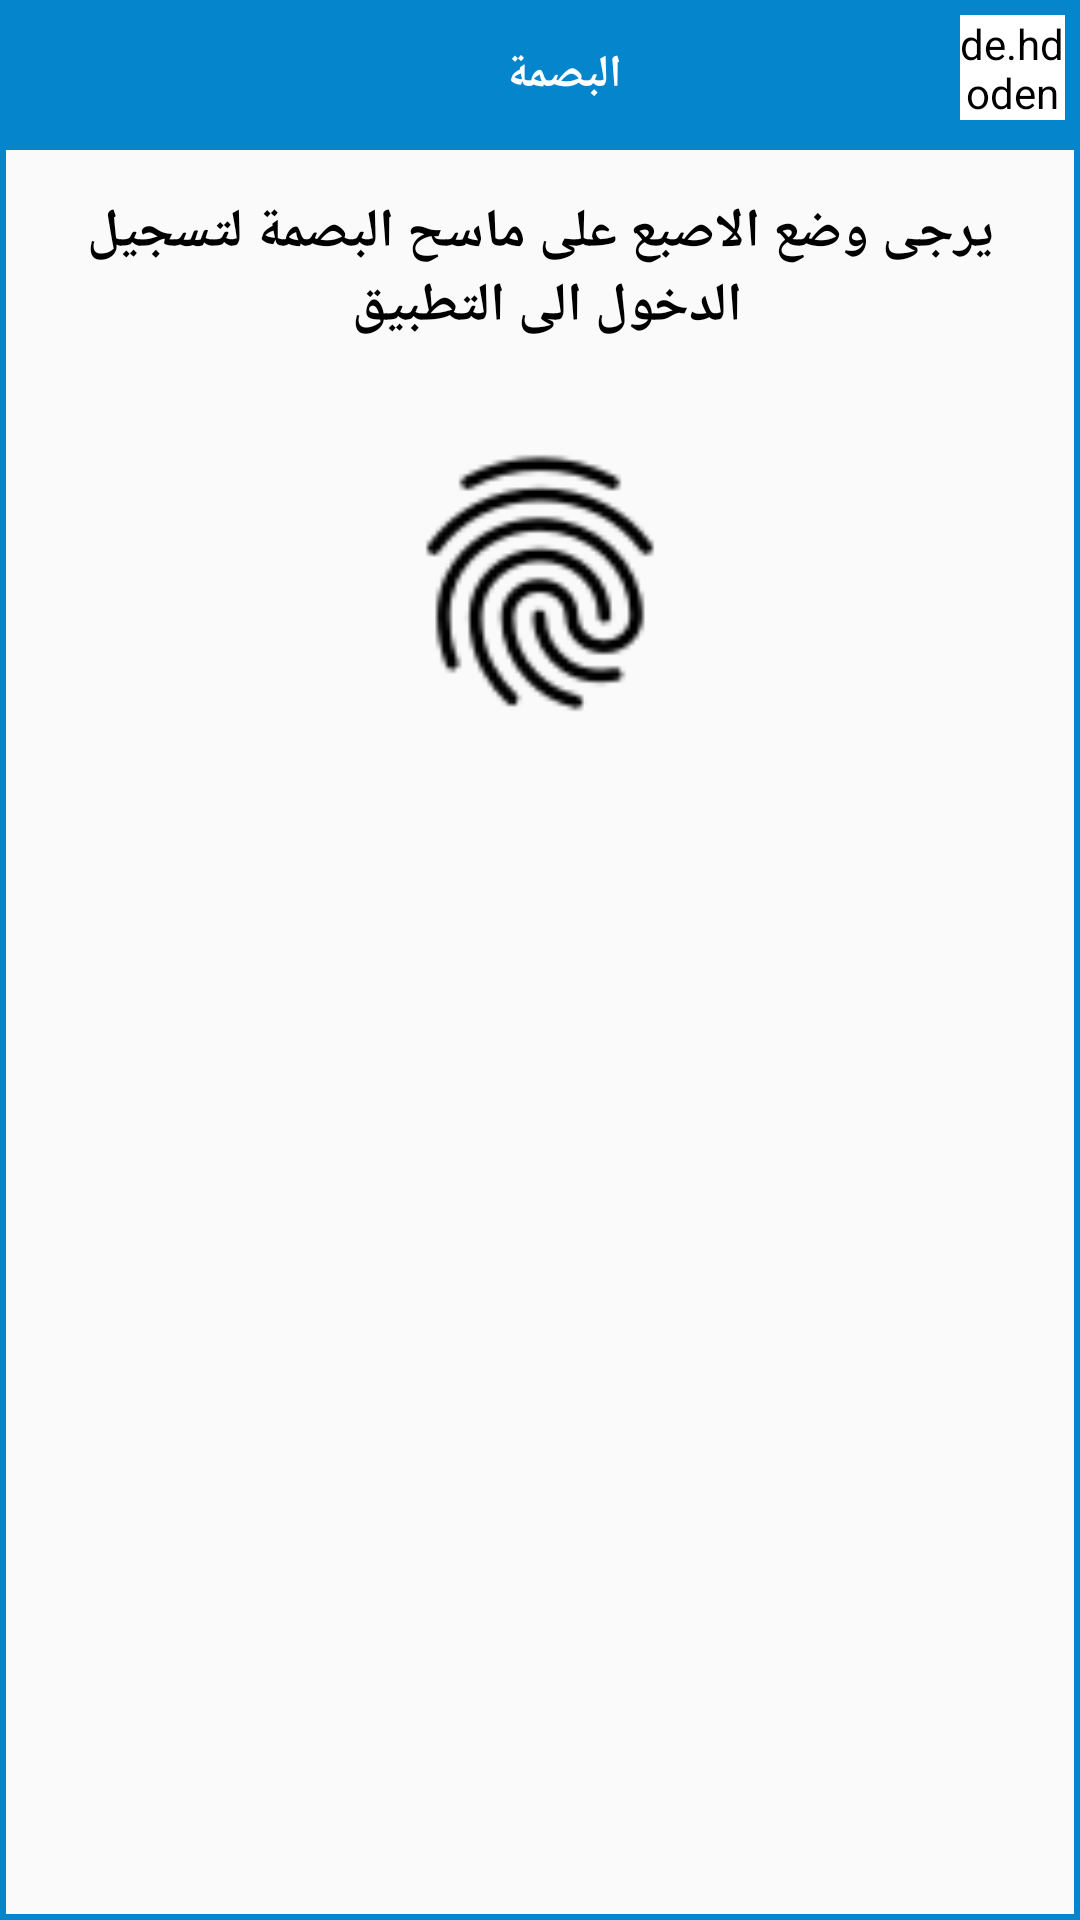

Named icons in this screenshot (1080 × 1920) and their bounding boxes, Rect(x1, y1, x2, y2):
fingerprint: Rect(426, 455, 654, 711)
